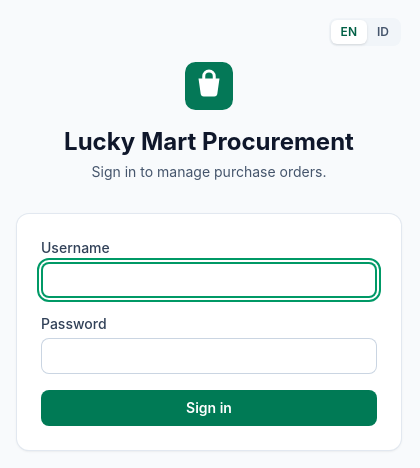
language switcher › switches the login page to Indonesian and remembers it
Check: the button "Sign in" is shown, box left=41, top=390, right=377, bottom=426
Click the button "ID" at (383, 32), box left=367, top=20, right=399, bottom=44
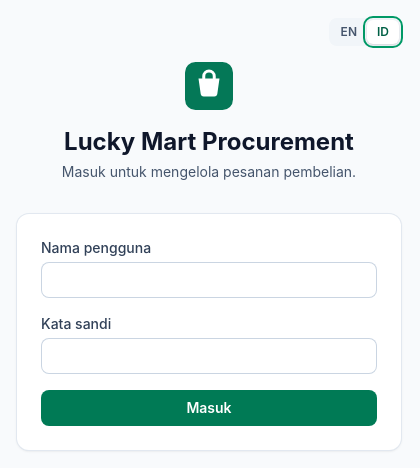
Check: the field labelled "Nama pengguna" is shown, box left=41, top=262, right=377, bottom=298
Check: the button "Masuk" is shown, box left=41, top=390, right=377, bottom=426
